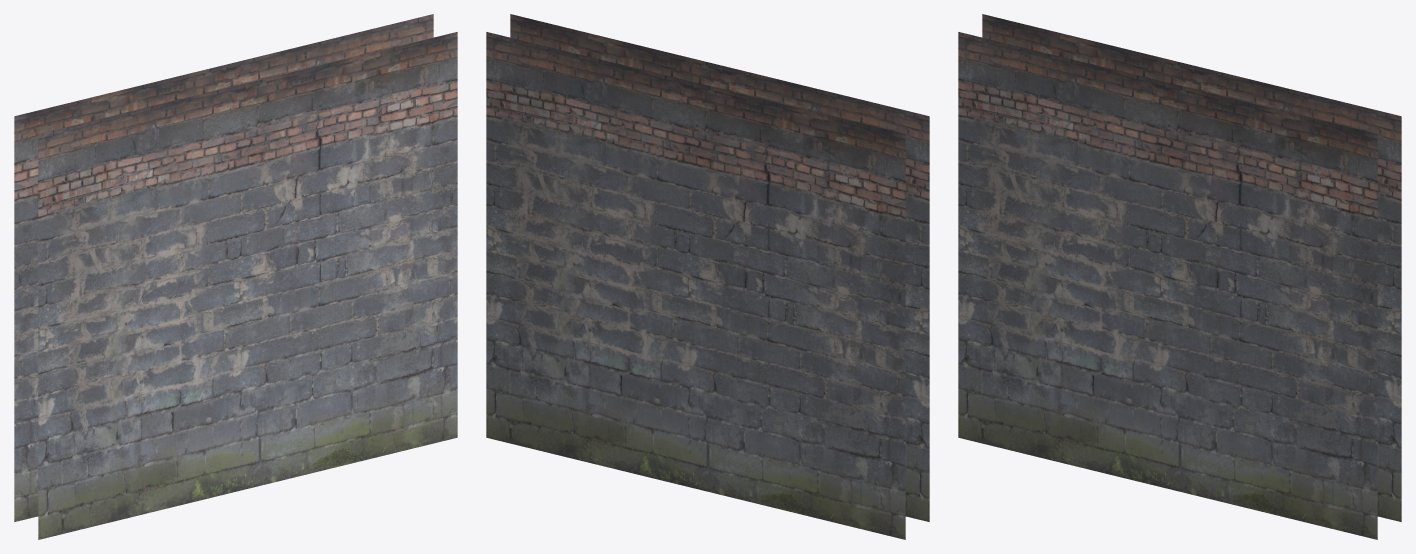
Rendered from sm_Wall_06_39.fbx.
The picture shows the model from 3 angles, left to right: view 1: azimuth 30°, elevation 25°; view 2: azimuth 150°, elevation 25°; view 3: azimuth 330°, elevation 25°; orthographic projection.
Visible parts, largest first — view 1: sm_Wall_06_39_LOD0; view 2: sm_Wall_06_39_LOD0; view 3: sm_Wall_06_39_LOD0.
Part boxes in pixels (x1,y1,x2,y2): sm_Wall_06_39_LOD0: (14,14,457,539); sm_Wall_06_39_LOD0: (486,14,929,539); sm_Wall_06_39_LOD0: (958,14,1401,539).
Bounding box in the file's own units: 40 × 400 × 370.
